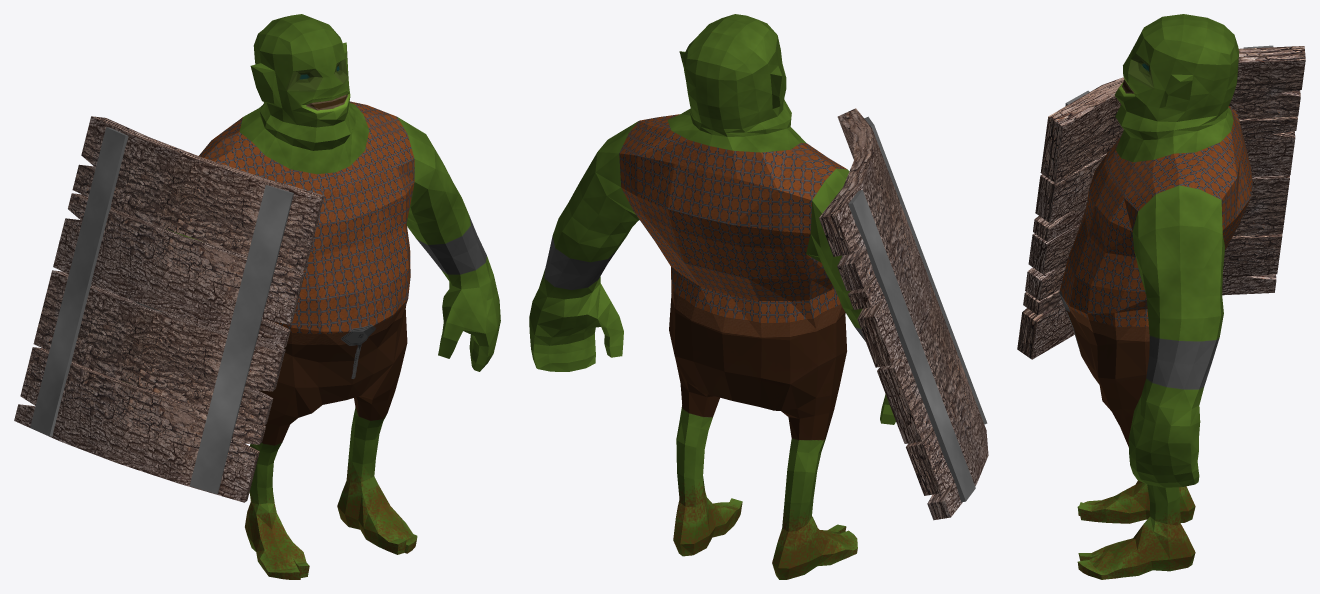
Rendered from goblin_with_shield.obj.
3 views of the same model, side by side, from view 1: azimuth 30°, elevation 25°; view 2: azimuth 150°, elevation 25°; view 3: azimuth 270°, elevation 25° (orthographic). The views are drawn at different scales.
Visible parts, largest first — view 1: Object.1; view 2: Object.1; view 3: Object.1.
Boxes of the visible parts, x1,y1,x2,y2 form: Object.1: (14,14,500,579); Object.1: (529,14,988,579); Object.1: (1017,14,1305,579).
Size of the model in its own units: 104 by 116 by 57.85.
